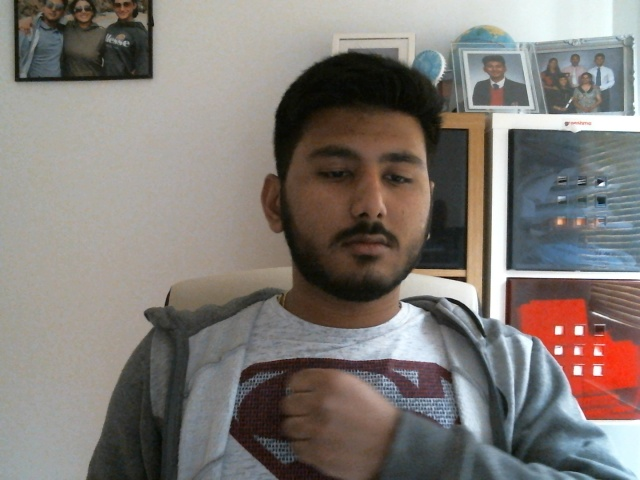morning: (277, 370, 378, 473)
